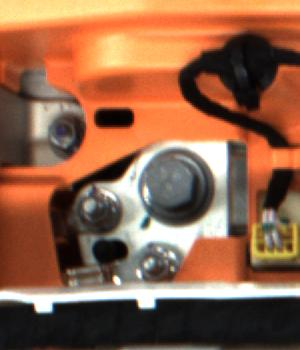nut_b: (136, 146, 221, 229)
